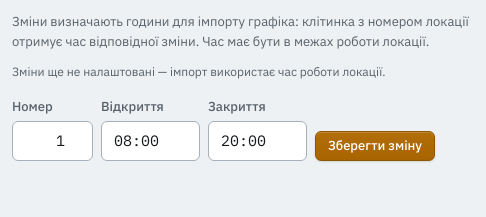
it: SlotEditor › surfaces the API rejection when a window falls outside the location hours
Click the button "Зберегти зміну". click: (375, 146)
box: [315,130,435,160]
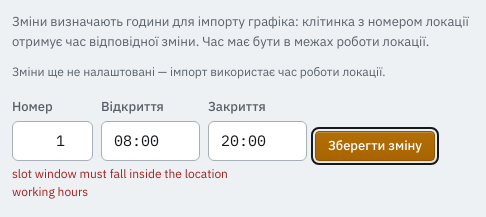
Result: the text "slot window must fall inside the location working hours" is shown at [12,164,257,200]
